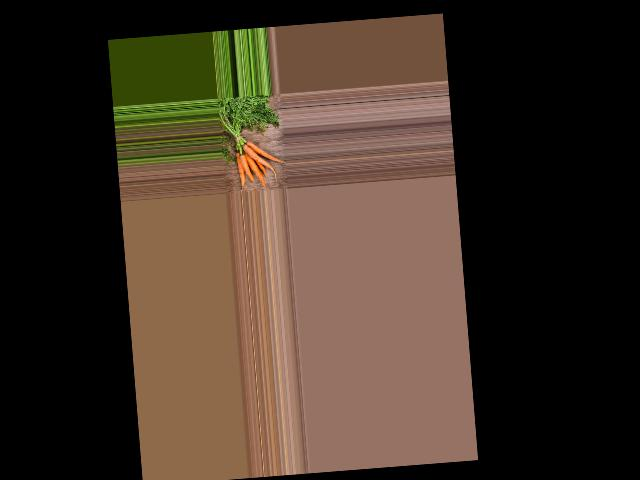carrot: (235, 149, 256, 183)
